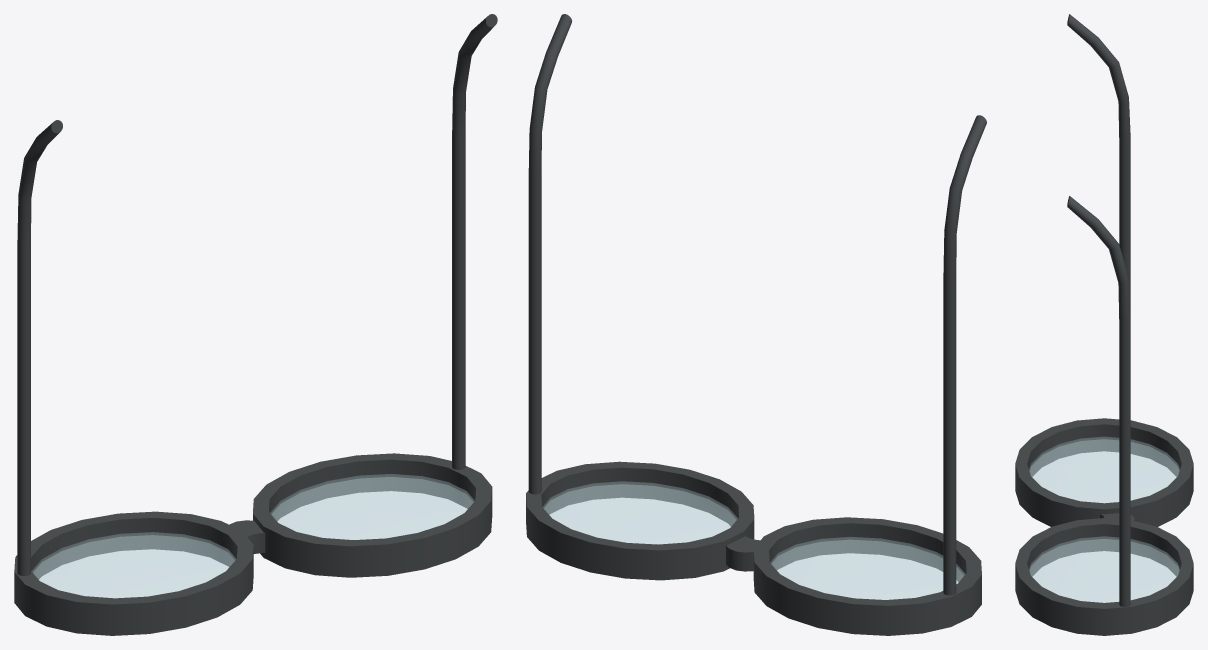
The model's file is glass.fbx.
3 renders of one model, left to right at view 1: azimuth 30°, elevation 25°; view 2: azimuth 150°, elevation 25°; view 3: azimuth 270°, elevation 25°, orthographic. The views are drawn at different scales.
Parts seen in each view (by area): view 1: pSphere7; view 2: pSphere7; view 3: pSphere7.
Part boxes in pixels (x1,y1,x2,y2): pSphere7: [14, 14, 497, 635]; pSphere7: [526, 14, 986, 635]; pSphere7: [1015, 14, 1193, 635].
Bounding box in the file's own units: 759 × 808 × 300.
